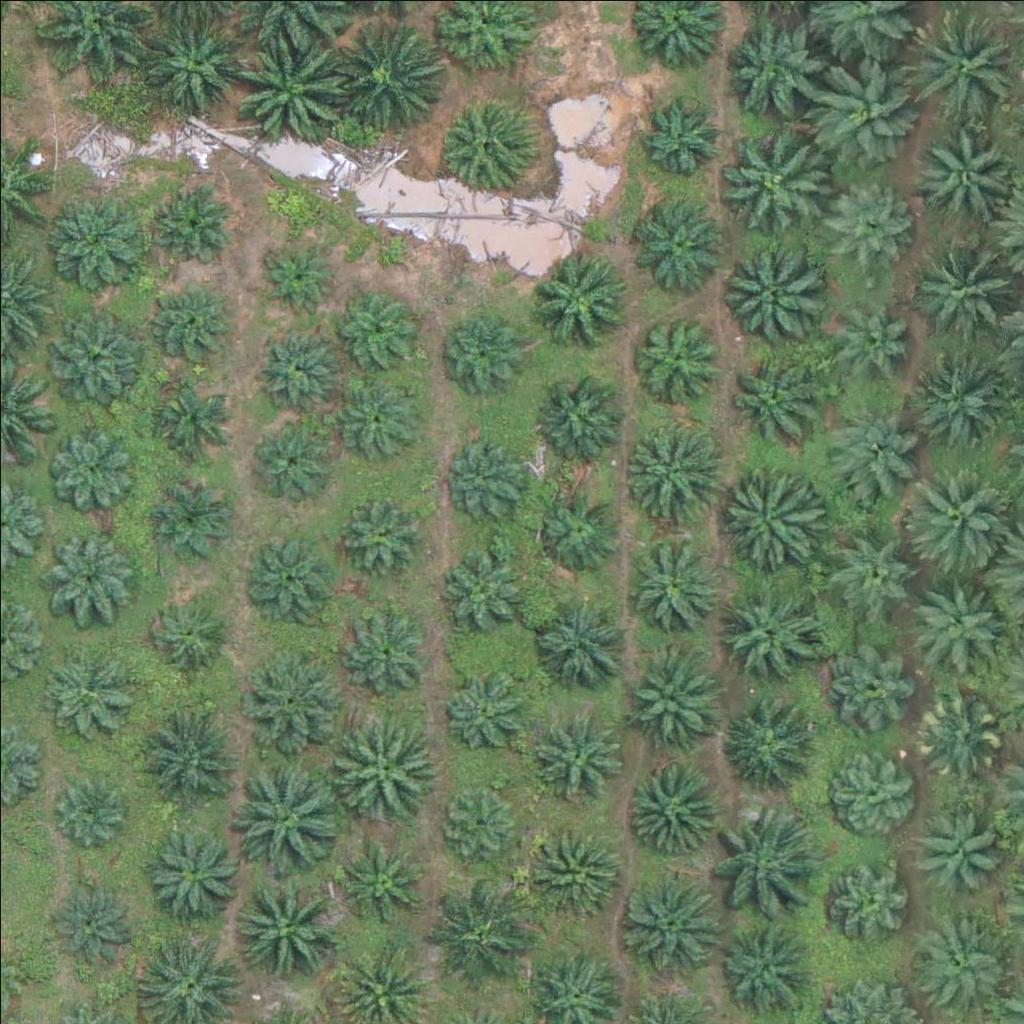Kelapa_Sawit: (910, 225, 1023, 339), (909, 7, 1022, 120), (138, 692, 251, 805), (229, 755, 342, 868), (332, 13, 445, 126), (703, 799, 816, 912), (717, 124, 830, 237), (418, 883, 531, 996), (804, 49, 917, 162), (712, 238, 824, 352), (224, 869, 336, 983), (330, 711, 442, 824), (233, 30, 345, 143), (898, 457, 1010, 570), (46, 296, 146, 397), (142, 817, 242, 918), (245, 650, 345, 751), (145, 15, 245, 116), (528, 821, 628, 922), (526, 592, 626, 693), (530, 360, 630, 461), (529, 244, 629, 345), (620, 416, 720, 517), (716, 688, 816, 789), (720, 576, 820, 677), (720, 460, 820, 561), (911, 122, 1011, 223), (905, 571, 1005, 672), (910, 912, 1010, 1013), (712, 916, 812, 1017), (618, 873, 718, 974), (722, 9, 822, 109), (47, 191, 147, 291), (435, 89, 535, 189), (621, 755, 721, 855), (620, 650, 720, 750), (627, 189, 727, 289), (718, 345, 818, 445), (817, 401, 917, 501), (910, 345, 1010, 445), (46, 523, 134, 611), (46, 422, 134, 510), (432, 777, 520, 865), (443, 670, 531, 758), (439, 542, 527, 630), (446, 440, 534, 528), (344, 492, 432, 580), (246, 537, 334, 625), (147, 174, 235, 262), (145, 591, 233, 679), (530, 709, 618, 797), (630, 307, 718, 395), (638, 94, 726, 182), (338, 834, 426, 922), (47, 877, 135, 965), (440, 305, 527, 393), (330, 288, 417, 376), (334, 373, 421, 461), (343, 609, 430, 697), (249, 412, 336, 500), (248, 328, 335, 416), (150, 284, 237, 372), (142, 381, 229, 469), (150, 478, 237, 566), (44, 646, 131, 734), (535, 487, 622, 575), (626, 543, 713, 631), (823, 849, 910, 937), (826, 740, 913, 828), (823, 641, 910, 729), (826, 524, 913, 612), (826, 280, 913, 368), (821, 175, 908, 263), (916, 688, 1003, 776), (917, 803, 1004, 891), (52, 768, 127, 844), (259, 243, 334, 319)
